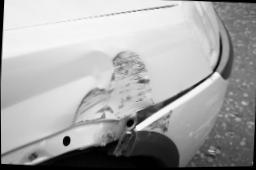Bumper: (111, 69, 231, 168)
Fender: (1, 23, 221, 144)
